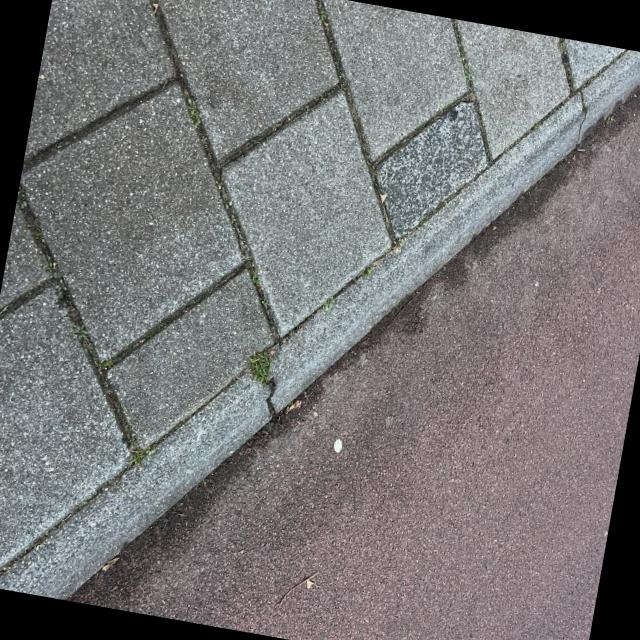pavement: (225, 0, 640, 640)
weedling: (176, 370, 306, 426)
